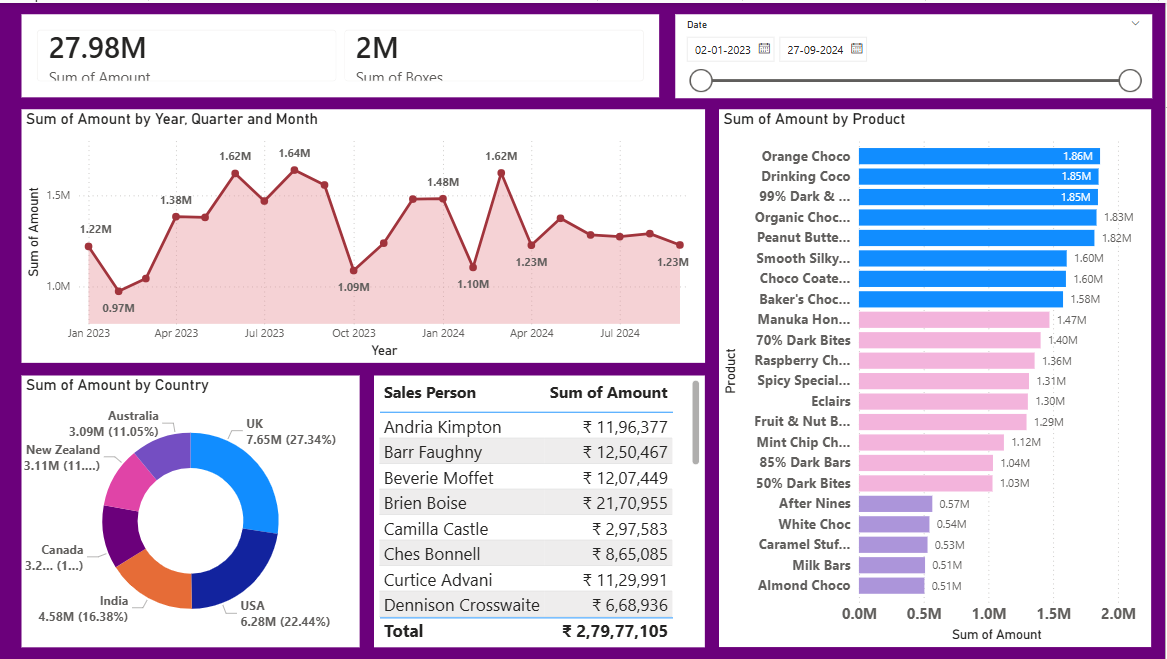

The dashboard page shown, as its layout file describes it:
{"tool":"powerbi","page":{"name":"Page 2","canvas":[1280,720],"ordinal":1},"visuals":[{"type":"clusteredBarChart","fields":{"Y":["Sum(data.Amount)"],"Category":["data.Product"]},"box":[790.4,116.6,474.8,590.1],"z":0},{"type":"donutChart","fields":{"Y":["Sum(data.Amount)"],"Category":["data.Country"]},"box":[24.3,408.6,371.4,298.6],"z":1000},{"type":"lineChart","fields":{"Category":["data.Date.Variation.Date Hierarchy.Year","data.Date.Variation.Date Hierarchy.Quarter","data.Date.Variation.Date Hierarchy.Month","data.Date.Variation.Date Hierarchy.Day"],"Y":["Sum(data.Amount)"]},"box":[24.3,117.1,750,278.6],"z":2000},{"type":"tableEx","fields":{"Values":["data.Sales Person","Sum(data.Amount)"]},"box":[411.4,408.6,362.9,298.6],"z":3000},{"type":"cardVisual","fields":{"Data":["Sum(data.Amount)","Sum(data.Boxes)"]},"box":[24.3,12.9,700,91.4],"z":4000},{"type":"slicer","fields":{"Values":["data.Date"]},"box":[742.4,12.3,522.8,91.9],"z":5000}]}

Visuals, with their boxes in screenshot pixels (x1, y1, x2, y2), scaled from the page's 1280x720 canvas onto the 1167x659 screenshot:
clusteredBarChart - Sum(data.Amount) x data.Product: detection(721, 107, 1154, 647)
donutChart - Sum(data.Amount) x data.Country: detection(22, 374, 361, 647)
lineChart - data.Date.Variation.Date Hierarchy.Year x data.Date.Variation.Date Hierarchy.Quarter: detection(22, 107, 706, 362)
tableEx - data.Sales Person x Sum(data.Amount): detection(375, 374, 706, 647)
cardVisual - Sum(data.Amount) x Sum(data.Boxes): detection(22, 12, 660, 95)
slicer - data.Date: detection(677, 11, 1154, 95)
